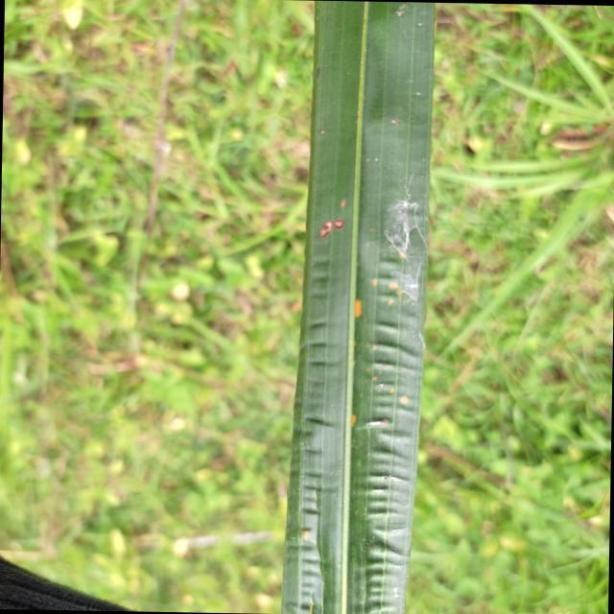Boron: (286, 0, 435, 614)
